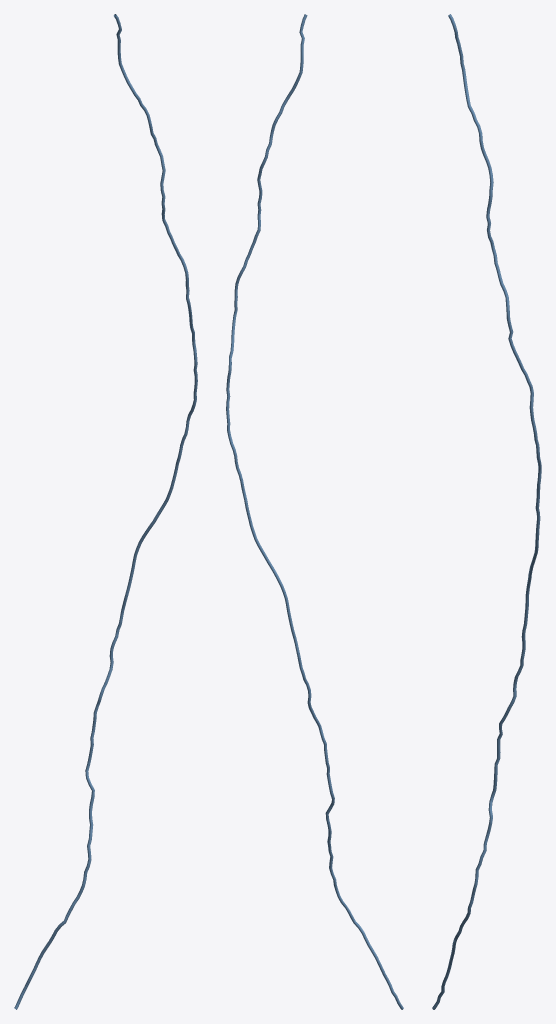
File: sweep71.fbx
The picture shows the model from 3 angles, left to right: view 1: azimuth 30°, elevation 25°; view 2: azimuth 210°, elevation 25°; view 3: azimuth 330°, elevation 25°; orthographic projection. The views are drawn at different scales.
Parts seen in each view (by area): view 1: sweep71; view 2: sweep71; view 3: sweep71.
Part boxes in pixels (x1,y1,x2,y2): sweep71: [14, 14, 197, 1009]; sweep71: [226, 14, 403, 1009]; sweep71: [432, 14, 541, 1009].
Size of the model in its own units: 0.996 by 6.72 by 0.6185.
